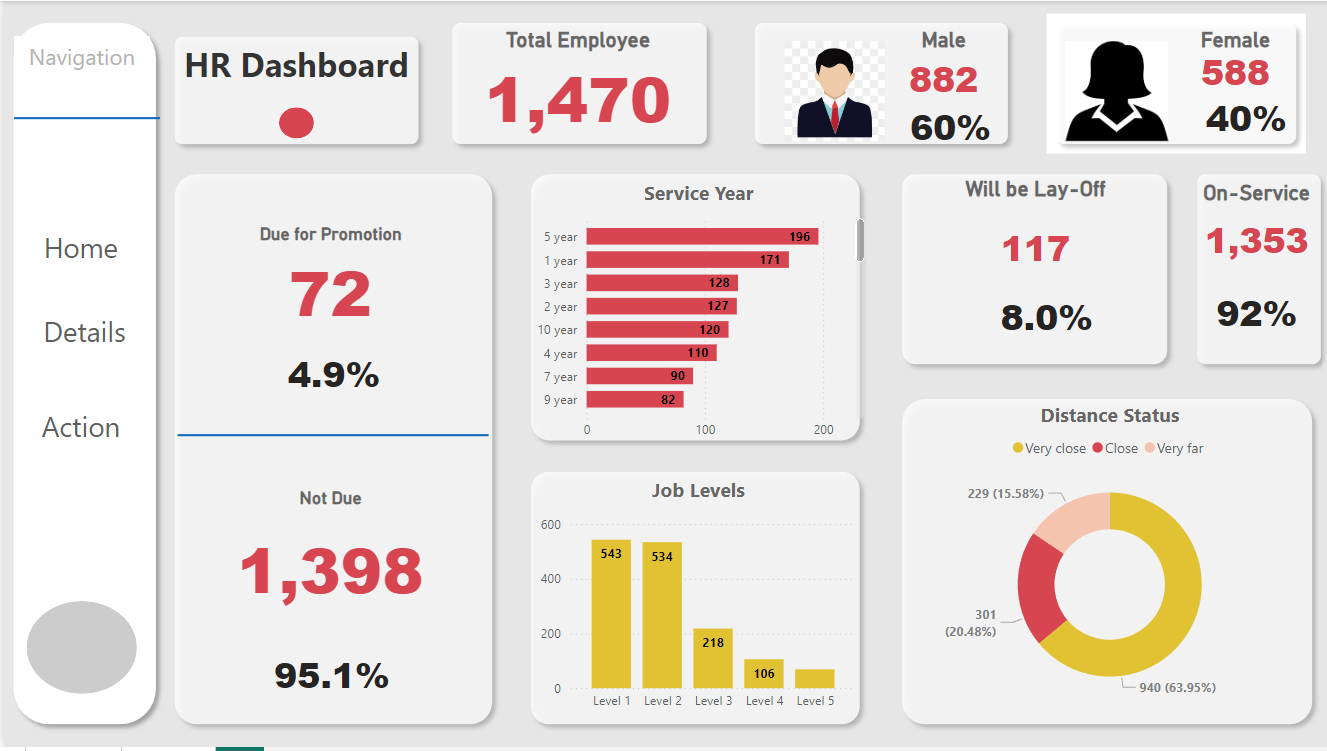

The dashboard page shown, as its layout file describes it:
{"tool":"powerbi","page":{"name":"Home","canvas":[1280,720],"ordinal":0},"visuals":[{"type":"shape","box":[0,12.1,155.6,694.9],"z":0},{"type":"shape","box":[155.6,25.3,253.4,121.9],"z":1000},{"type":"shape","box":[423.8,12.5,263.8,135],"z":2000},{"type":"shape","box":[715,12.5,262.5,135],"z":3000},{"type":"shape","box":[1006.2,12.5,250,135],"z":4000},{"type":"shape","box":[155.6,158,324.5,548.9],"z":5000},{"type":"shape","box":[499.5,158,335.4,275.1],"z":6000},{"type":"shape","box":[499.5,445.2,335.4,261.8],"z":7000},{"type":"shape","box":[857.8,158,273.9,201.5],"z":8000},{"type":"shape","box":[857.8,375.2,413.8,331.8],"z":9000},{"type":"shape","box":[1142.5,158,137.5,201.5],"z":10000},{"type":"textbox","box":[165.3,33.8,234,106.2],"z":11000},{"type":"shape","box":[265.4,102.5,33.8,30.2],"z":12000},{"type":"card","title":"Total Employee","fields":{"Values":["Sum(dataset.Total Employees)"]},"box":[440,25,227.5,107.5],"z":13000},{"type":"card","title":"Male","fields":{"Values":["All Measures.Male"]},"box":[846.2,25,122.5,77.5],"z":14000},{"type":"card","title":" Female","fields":{"Values":["All Measures.Female"]},"box":[1131.2,25,113.8,62.5],"z":15000},{"type":"card","title":"Male","fields":{"Values":["All Measures.% Male"]},"box":[857.5,102.5,111.2,37.5],"z":16000},{"type":"card","title":" Female","fields":{"Values":["All Measures.% Female"]},"box":[1153.8,86.2,91.2,53.8],"z":17000},{"type":"image","box":[736.2,33.8,132.5,106.2],"z":18000},{"type":"image","box":[1006.2,33.8,136.2,106.2],"z":19000},{"type":"card","title":"Due for Promotion","fields":{"Values":["All Measures.Due for promotion"]},"box":[165,215,300,107.5],"z":20000},{"type":"card","title":"Due for Promotion","fields":{"Values":["All Measures.Due for promotion %"]},"box":[267.5,332.5,101.2,53.8],"z":21000},{"type":"card","title":"Not Due","fields":{"Values":["All Measures.Not Due"]},"box":[165,468.8,300,133.8],"z":22000},{"type":"card","title":"Due for Promotion","fields":{"Values":["All Measures.Not due %"]},"box":[255,623.8,123.8,53.8],"z":23000},{"type":"shape","box":[167.5,268.8,300,300],"z":24000},{"type":"barChart","title":"Service Year","fields":{"Category":["dataset.Sevice Year"],"Y":["dataset.Total emp1"]},"box":[505,172.5,330,260],"z":25000},{"type":"columnChart","title":"Job Levels","fields":{"Category":["dataset.Job Levels"],"Y":["dataset.Total emp1"]},"box":[512.5,458.8,315,235],"z":26000},{"type":"card","title":"On-Service","fields":{"Values":["All Measures.On-service"]},"box":[1152.5,172.5,113.8,92.5],"z":27000},{"type":"card","title":" Female","fields":{"Values":["All Measures.% on-service"]},"box":[1152.5,258.8,113.8,86.2],"z":28000},{"type":"card","title":"Will be Lay-Off","fields":{"Values":["All Measures.will be Lay-off"]},"box":[868.8,168.8,253.8,115],"z":29000},{"type":"card","title":" Female","fields":{"Values":["All Measures.% will be Lay-off"]},"box":[950,261.2,113.8,86.2],"z":30000},{"type":"donutChart","title":" Distance Status","fields":{"Category":["dataset.Distance Status"],"Y":["dataset.Total emp1"]},"box":[868.8,386.2,397.5,300],"z":31000},{"type":"textbox","box":[10,34.1,130.8,44.1],"z":32000},{"type":"shape","box":[10,0,140.8,226.1],"z":33000},{"type":"actionButton","title":"Home","box":[7.1,214.8,133.7,44.1],"z":34000},{"type":"actionButton","title":"Home","box":[7.1,386.8,133.7,44.1],"z":35000},{"type":"actionButton","title":"Home","box":[11.4,295.8,133.7,44.1],"z":36000},{"type":"shape","box":[21.3,578.8,106.7,89.6],"z":37000}]}

Visuals, with their boxes in screenshot pixels (x1, y1, x2, y2), scaled from the page's 1280x720 canvas onto the 1327x751 screenshot:
shape: bbox=(0, 13, 161, 737)
shape: bbox=(161, 26, 424, 154)
shape: bbox=(439, 13, 713, 154)
shape: bbox=(741, 13, 1013, 154)
shape: bbox=(1043, 13, 1302, 154)
shape: bbox=(161, 165, 498, 737)
shape: bbox=(518, 165, 866, 452)
shape: bbox=(518, 464, 866, 737)
shape: bbox=(889, 165, 1173, 375)
shape: bbox=(889, 391, 1318, 737)
shape: bbox=(1184, 165, 1326, 375)
textbox: bbox=(171, 35, 414, 146)
shape: bbox=(275, 107, 310, 138)
"Total Employee" card: bbox=(456, 26, 692, 138)
"Male" card: bbox=(877, 26, 1004, 107)
" Female" card: bbox=(1173, 26, 1291, 91)
"Male" card: bbox=(889, 107, 1004, 146)
" Female" card: bbox=(1196, 90, 1291, 146)
image: bbox=(763, 35, 901, 146)
image: bbox=(1043, 35, 1184, 146)
"Due for Promotion" card: bbox=(171, 224, 482, 336)
"Due for Promotion" card: bbox=(277, 347, 382, 403)
"Not Due" card: bbox=(171, 489, 482, 629)
"Due for Promotion" card: bbox=(264, 651, 393, 707)
shape: bbox=(174, 280, 485, 593)
"Service Year" barChart: bbox=(524, 180, 866, 451)
"Job Levels" columnChart: bbox=(531, 479, 858, 724)
"On-Service" card: bbox=(1195, 180, 1313, 276)
" Female" card: bbox=(1195, 270, 1313, 360)
"Will be Lay-Off" card: bbox=(901, 176, 1164, 296)
" Female" card: bbox=(985, 272, 1103, 362)
" Distance Status" donutChart: bbox=(901, 403, 1313, 716)
textbox: bbox=(10, 36, 146, 82)
shape: bbox=(10, 0, 156, 236)
"Home" actionButton: bbox=(7, 224, 146, 270)
"Home" actionButton: bbox=(7, 403, 146, 449)
"Home" actionButton: bbox=(12, 309, 150, 355)
shape: bbox=(22, 604, 133, 697)
